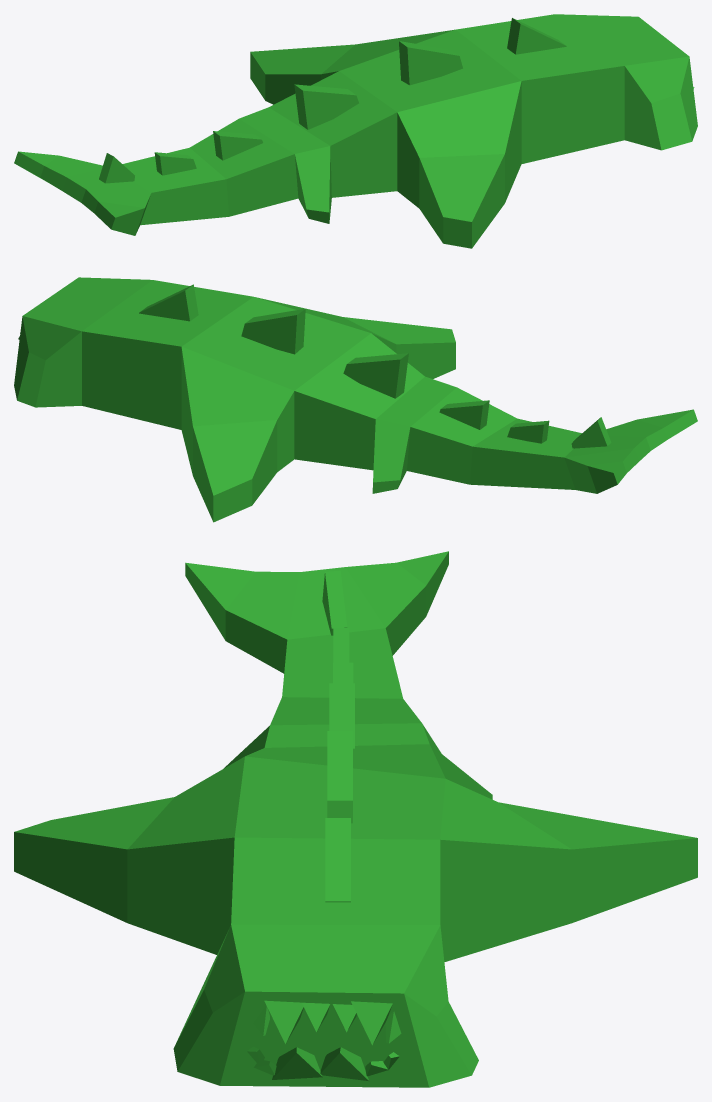
Rendered from SM_monster.fbx.
3 renders of one model, top to bottom at view 1: azimuth 30°, elevation 25°; view 2: azimuth 150°, elevation 25°; view 3: azimuth 270°, elevation 25°, orthographic. The views are drawn at different scales.
Parts seen in each view (by area): view 1: SM_monster; view 2: SM_monster; view 3: SM_monster.
Part boxes in pixels (x1=…): SM_monster: x1=14, y1=14, x2=697, y2=248; SM_monster: x1=14, y1=277, x2=697, y2=522; SM_monster: x1=14, y1=551, x2=697, y2=1087.
Size of the model in its own units: 4649 by 815 by 2958.
